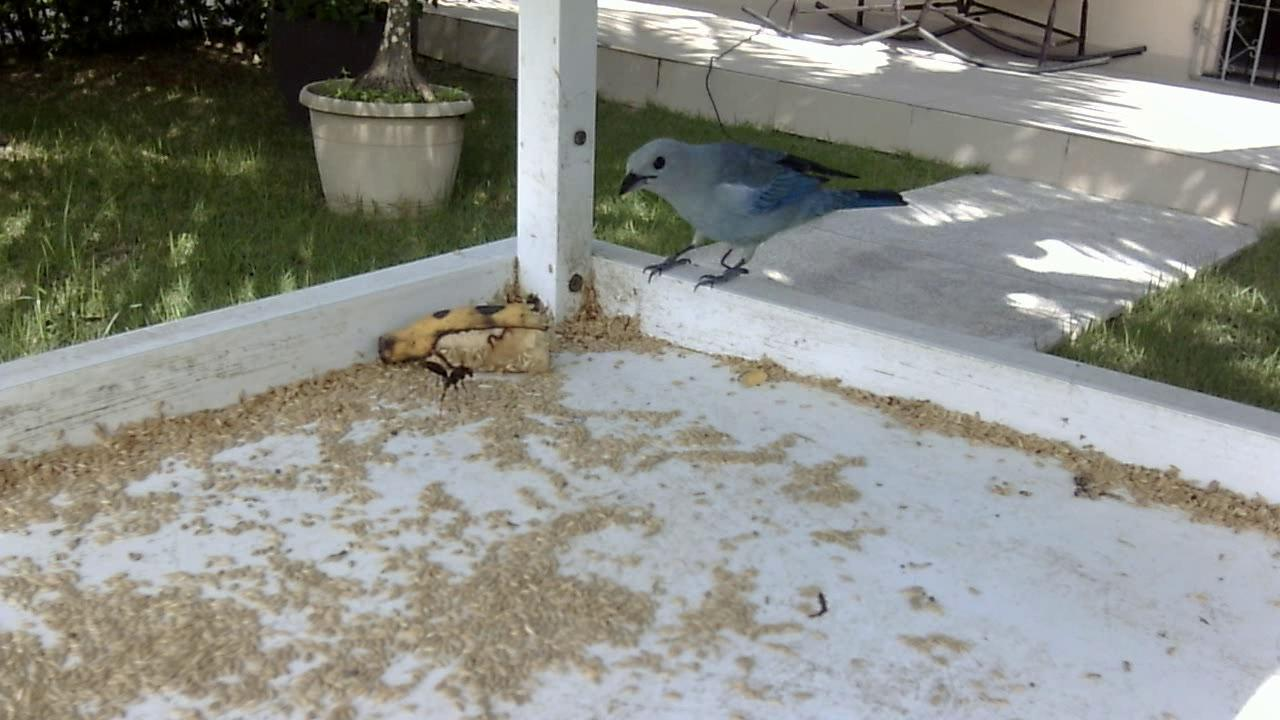sanhaco_da_amazonia: (614, 124, 919, 305)
